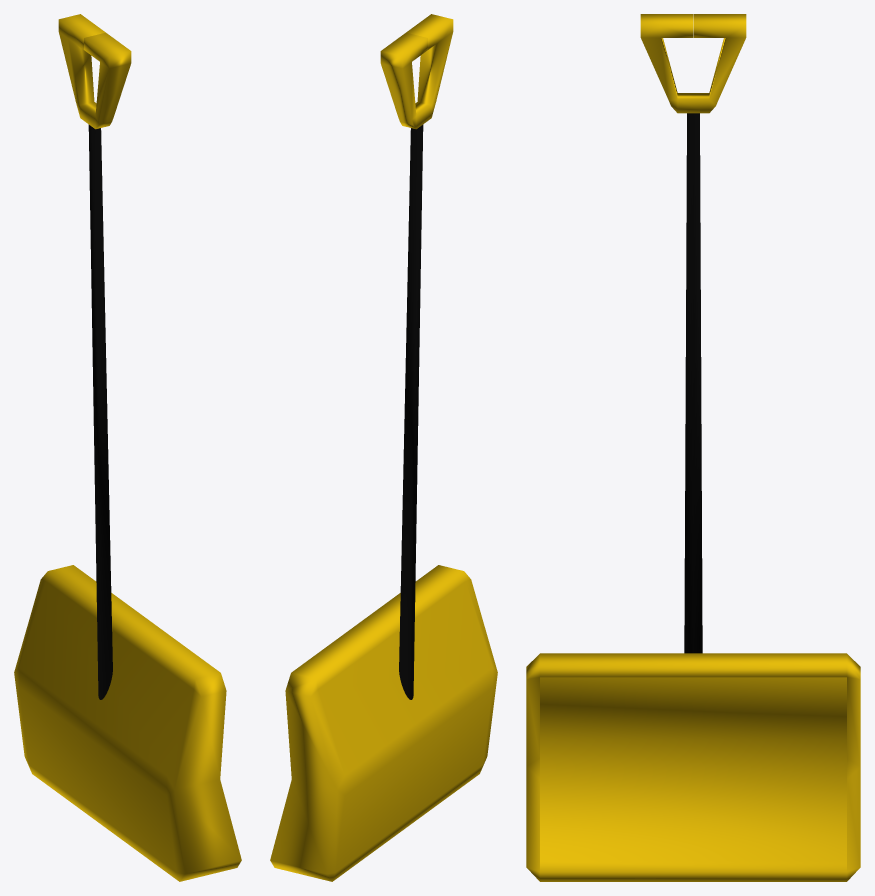
File: Snow_Shovel.fbx
The picture shows the model from 3 angles, left to right: view 1: azimuth 30°, elevation 25°; view 2: azimuth 150°, elevation 25°; view 3: azimuth 270°, elevation 25°; orthographic projection. The views are drawn at different scales.
Parts seen in each view (by area): view 1: Cube.003; view 2: Cube.003; view 3: Cube.003.
Boxes of the visible parts, x1,y1,x2,y2 form: Cube.003: [14, 14, 241, 881]; Cube.003: [270, 14, 497, 881]; Cube.003: [526, 14, 860, 881].
Bounding box in the file's own units: 11.68 × 110 × 40.41.
